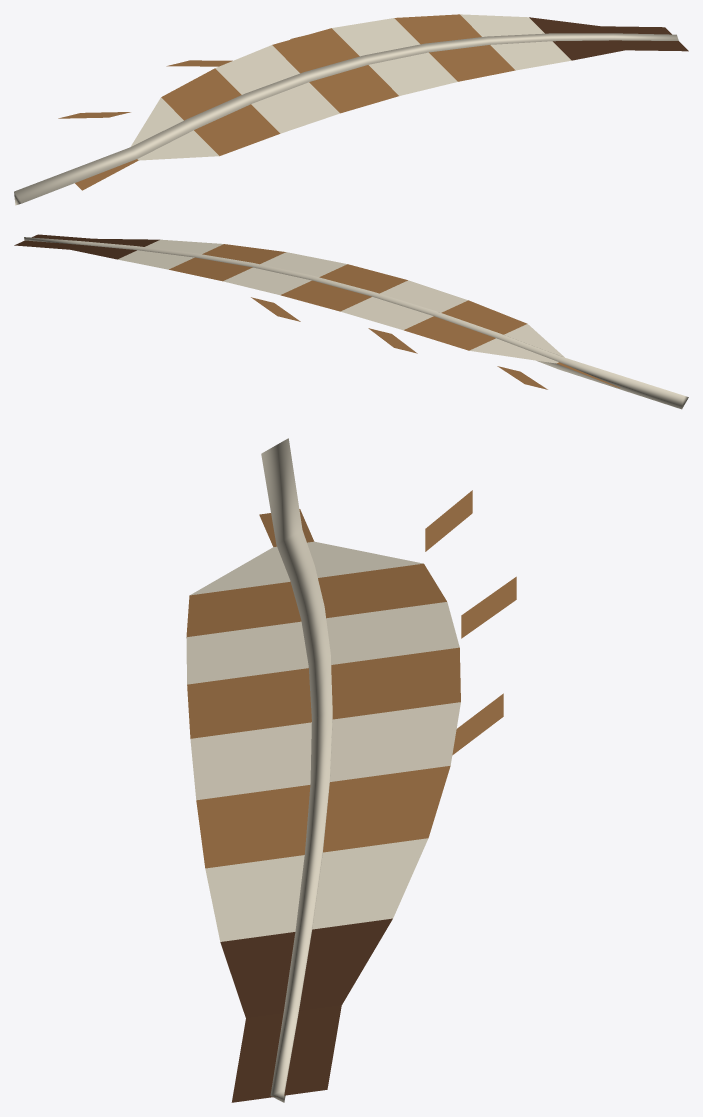
Rendered from ing_hawk_feather.gltf.
3 renders of one model, top to bottom at view 1: azimuth 30°, elevation 25°; view 2: azimuth 150°, elevation 25°; view 3: azimuth 270°, elevation 25°, orthographic. The views are drawn at different scales.
Visible parts, largest first — view 1: ing_hawk_feather; view 2: ing_hawk_feather; view 3: ing_hawk_feather.
Part boxes in pixels (<box>): ing_hawk_feather: <box>14,14,688,205</box>; ing_hawk_feather: <box>14,234,688,409</box>; ing_hawk_feather: <box>186,438,516,1102</box>.
Size of what is drawn, in the model's own units: 0.3309 by 0.0278 by 0.0716.
